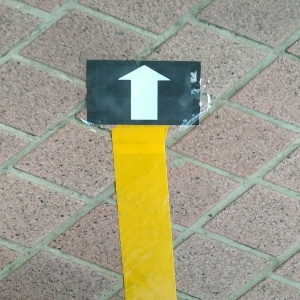straight: (84, 60, 200, 124)
